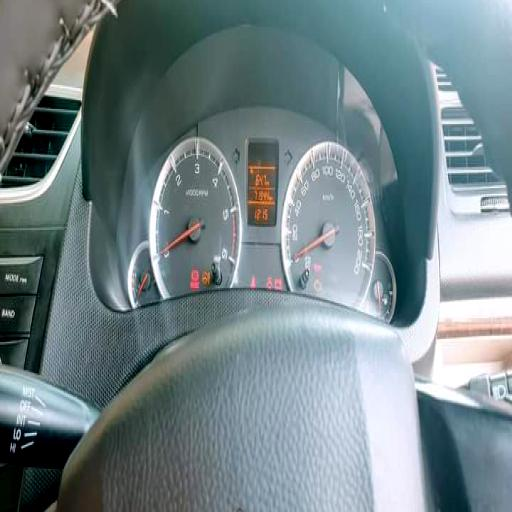tachometer: (149, 134, 243, 299)
